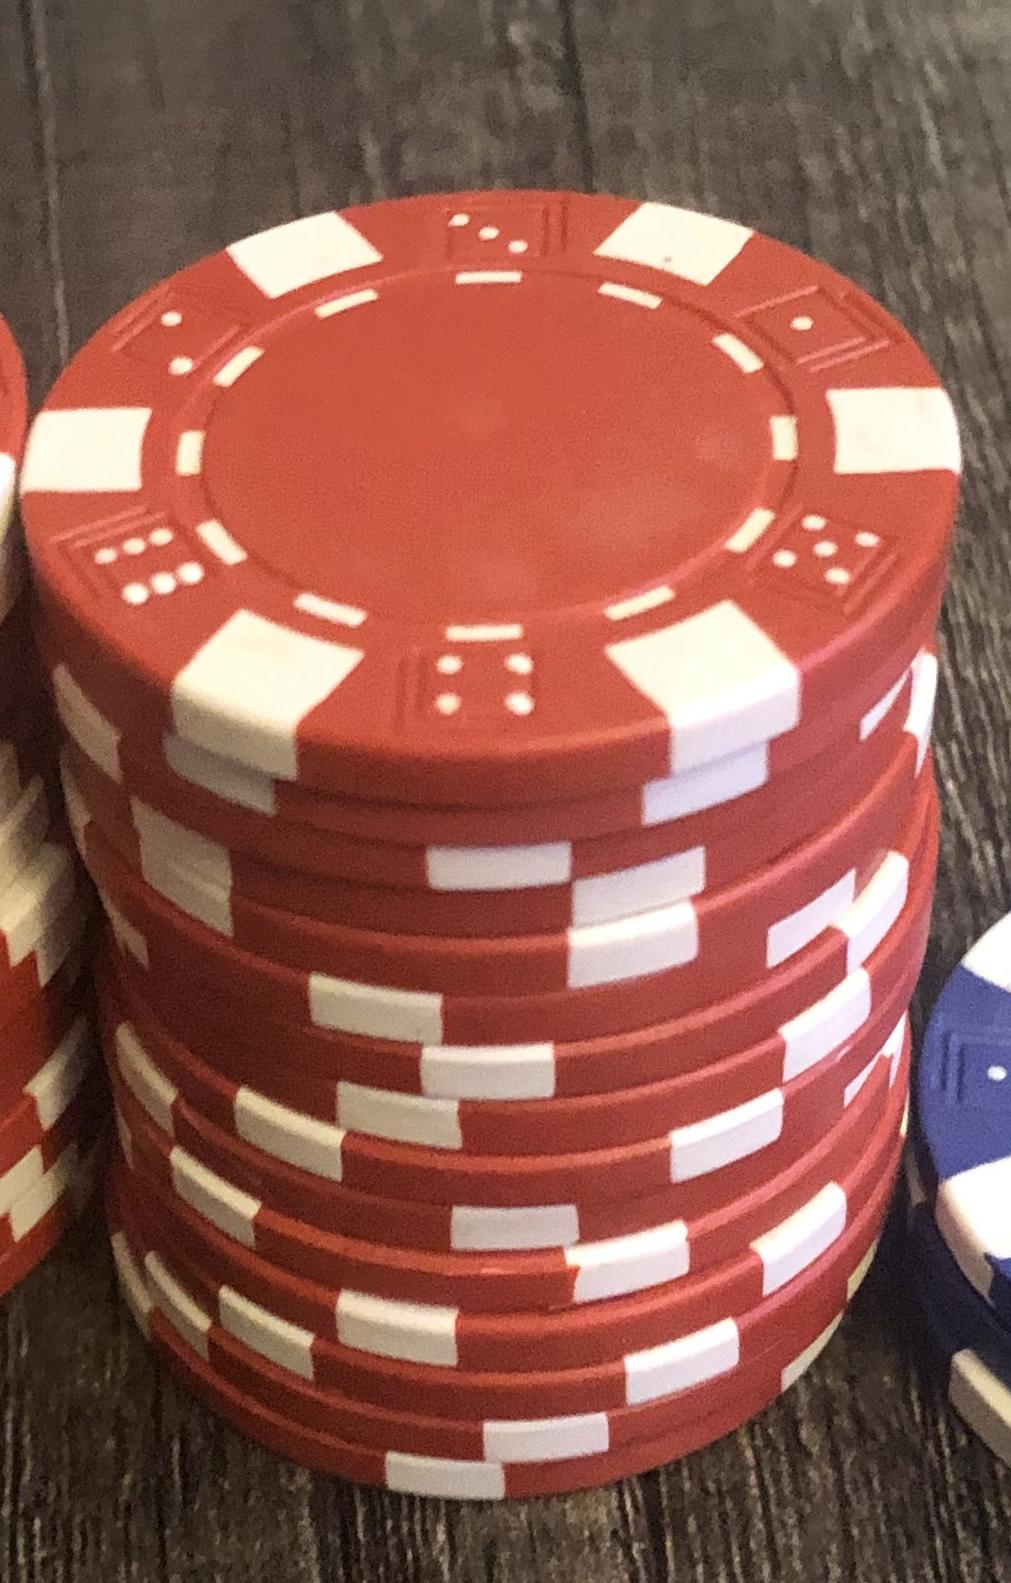Chip: (1, 1, 1011, 1583)
